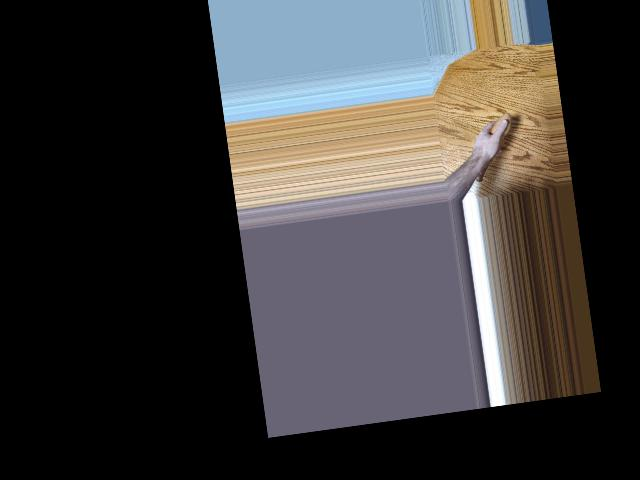sweet_potato: (464, 111, 519, 184)
